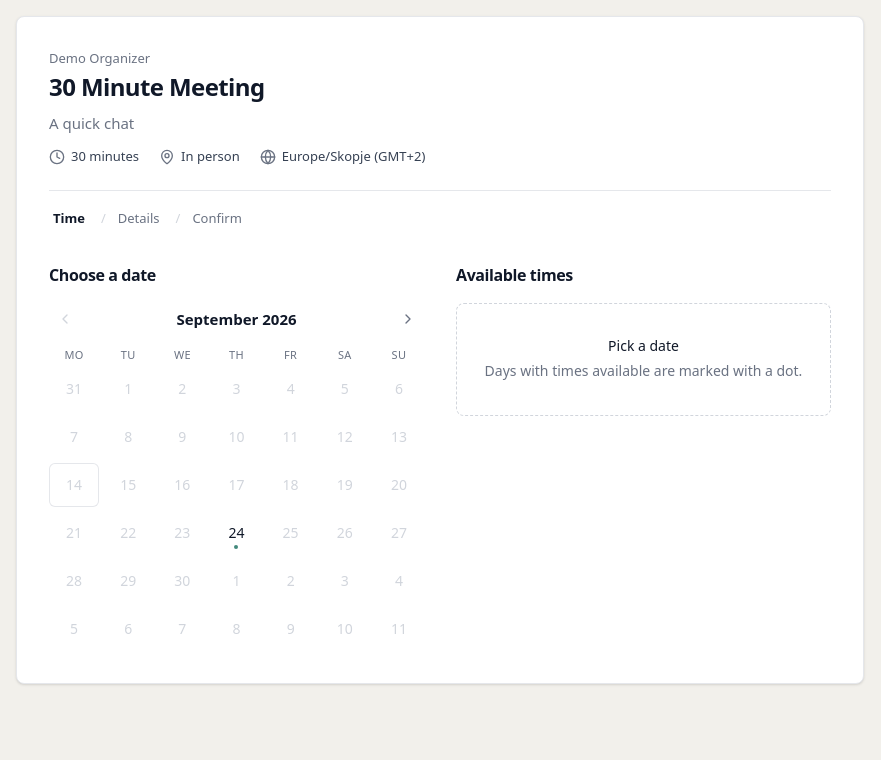
Test case: BookingPage — choosing a slot › records the slot on the organizer's clock the moment it is picked
Click the cell "24".
click(236, 533)  # box [211,511,262,555]
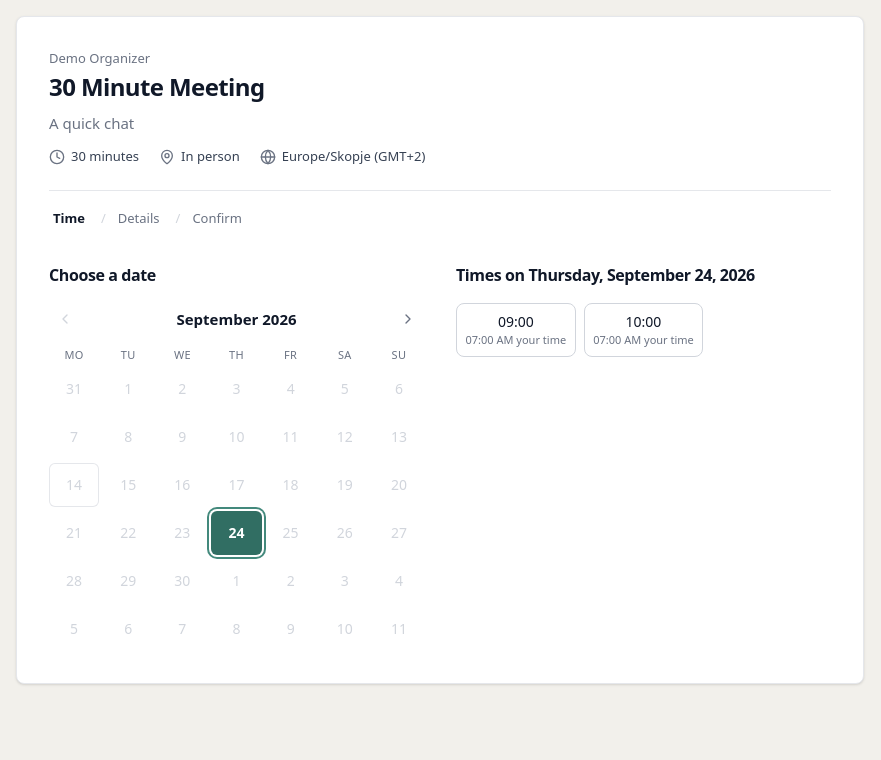
Click the button "09:00 07:00 AM your time".
click(516, 330)  # box [456,303,576,357]
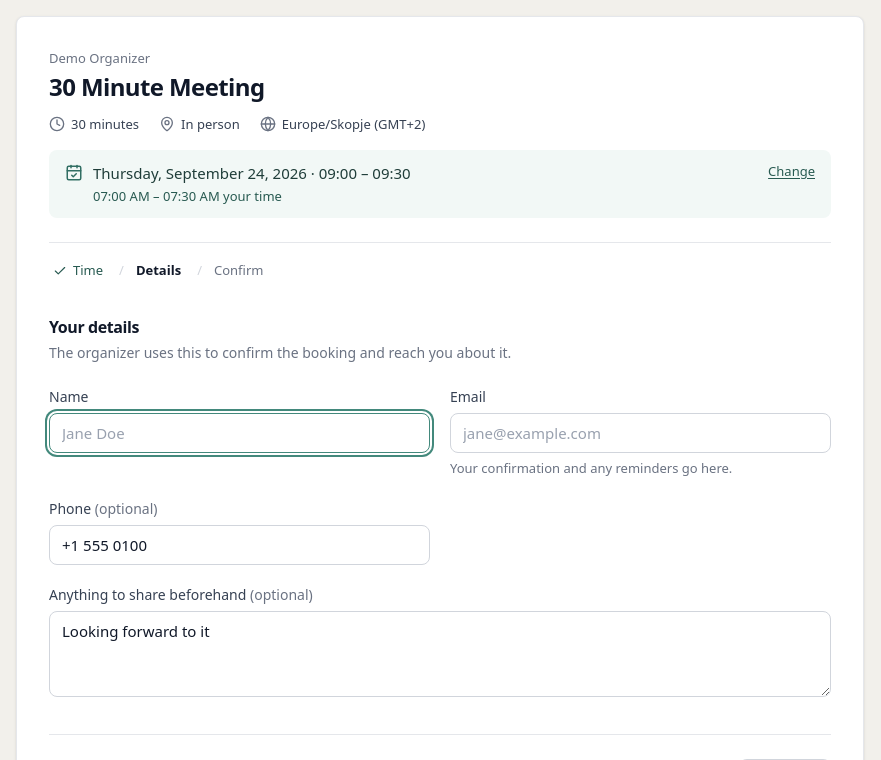
Check: the field labelled "Name" is shown, box [49,412,430,453]
